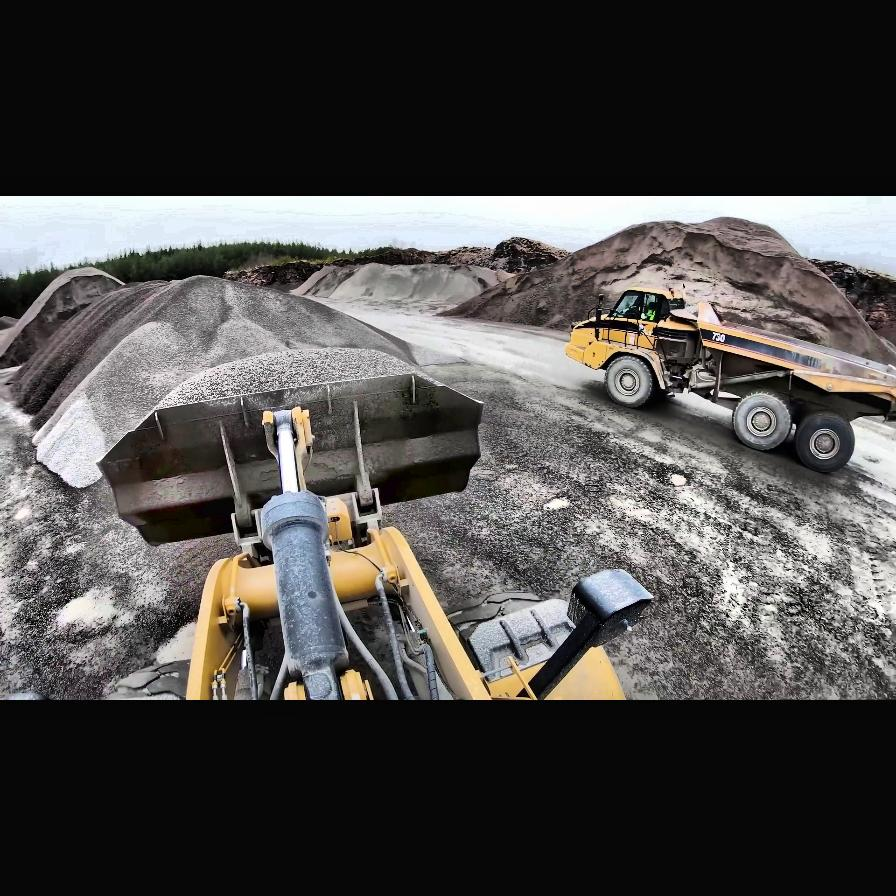anchor: (262, 408, 314, 498)
pile of gravel: (1, 274, 505, 496), (433, 216, 896, 374), (299, 262, 485, 308)
